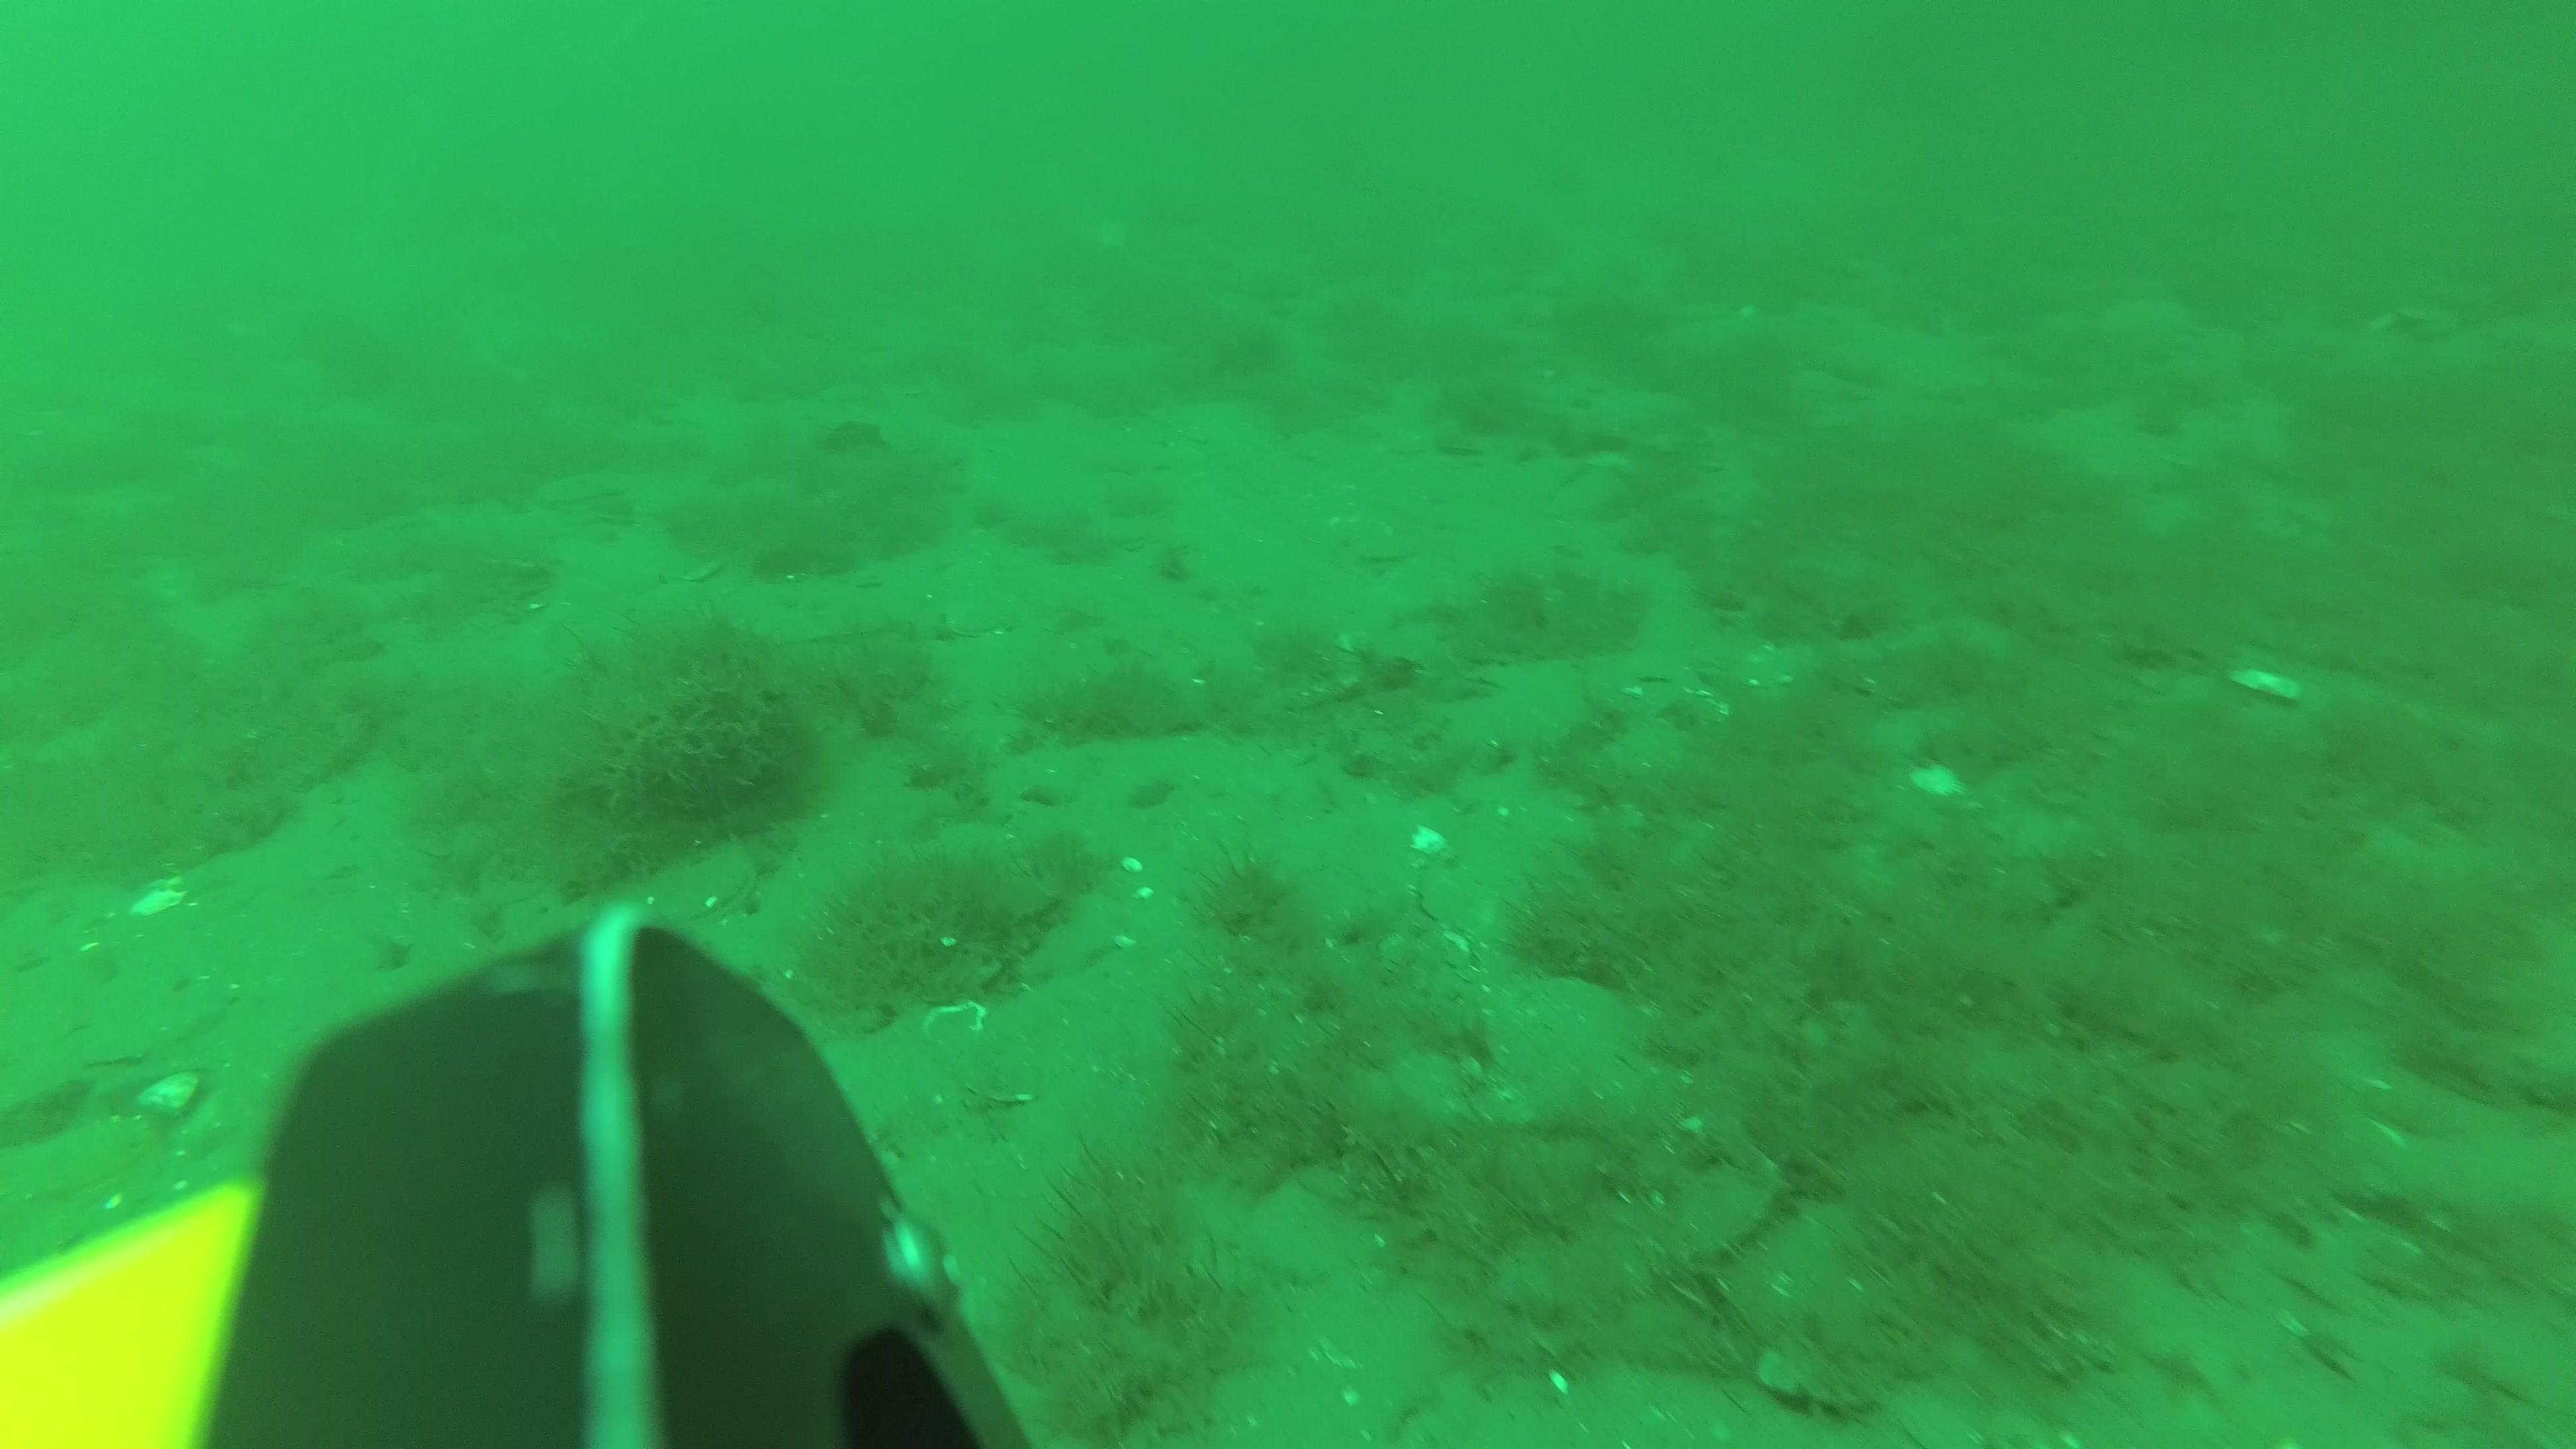scallop: (30, 1123, 157, 1210), (649, 847, 755, 924), (924, 996, 984, 1058)
